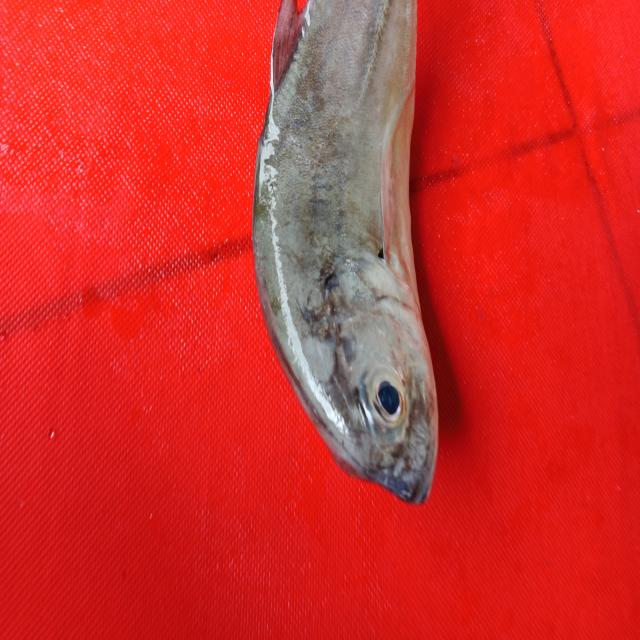ikan: (222, 9, 470, 519)
